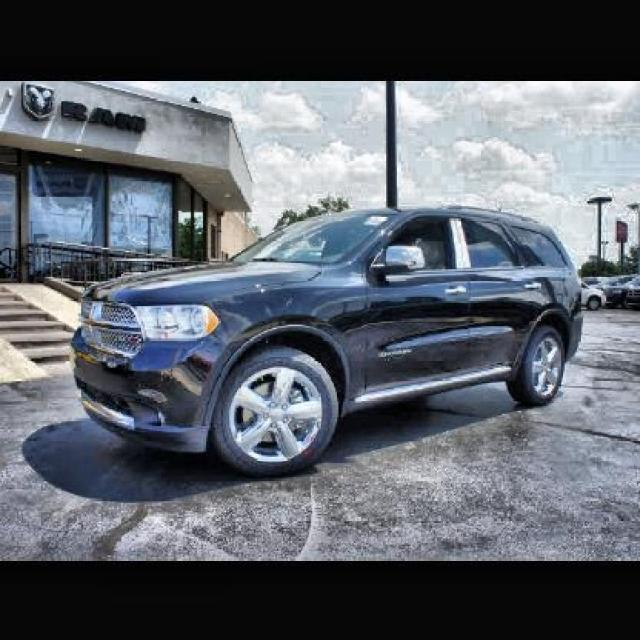black: (75, 217, 582, 468)
